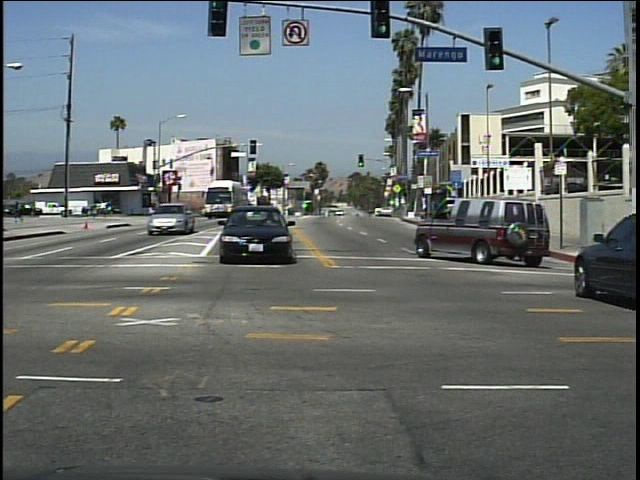person: (11, 197, 27, 226)
